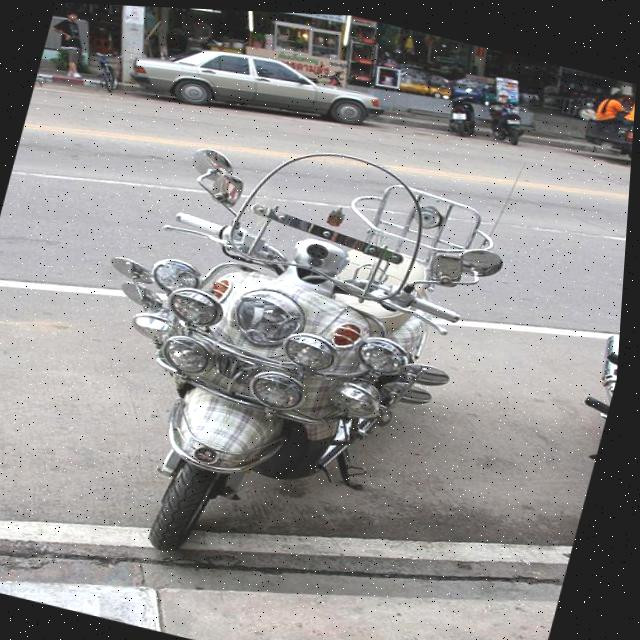car: (115, 10, 390, 149)
motorcycle: (37, 104, 536, 623), (478, 95, 539, 152), (442, 77, 486, 140)
